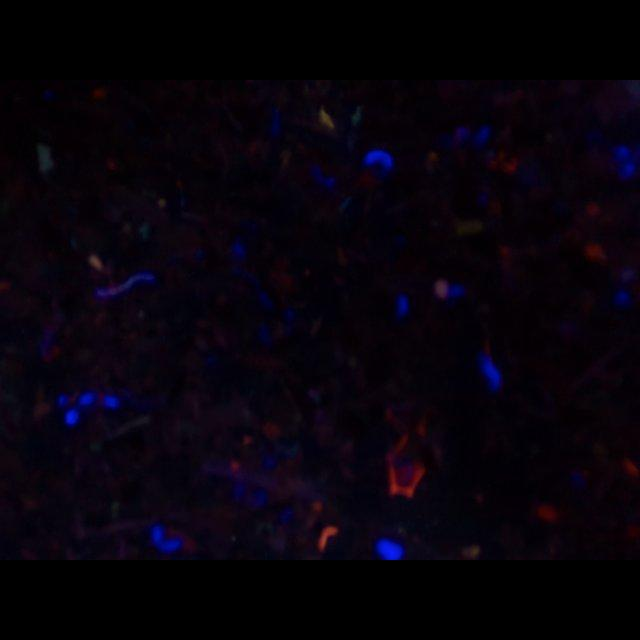Fibre: (34, 140, 54, 174)
